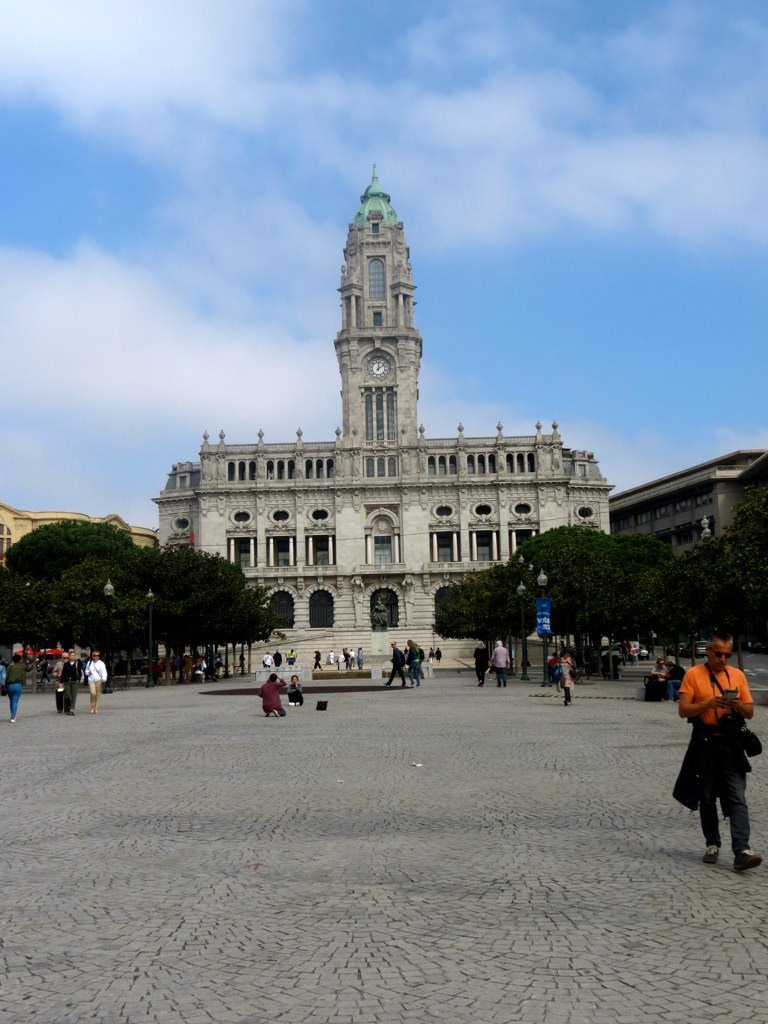camara: (151, 164, 617, 662)
